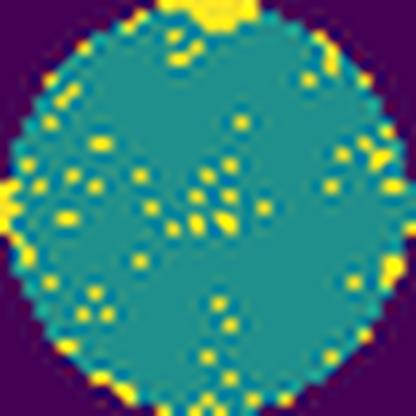Edge-Loc: (153, 0, 265, 36), (0, 176, 40, 267)
